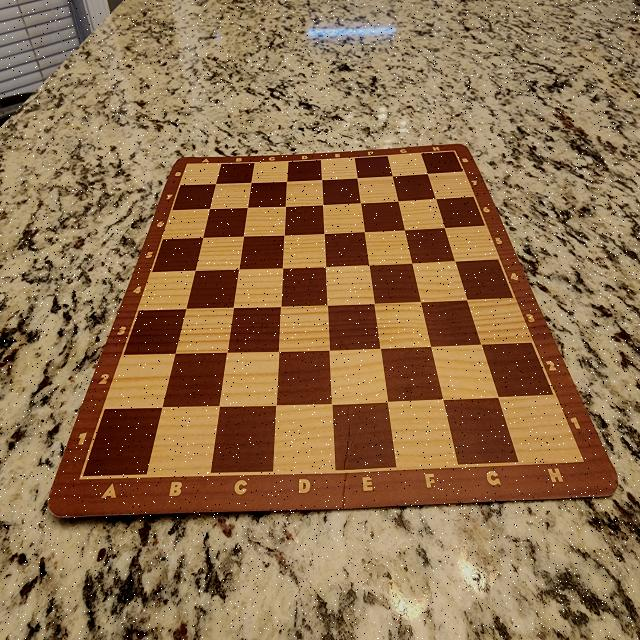Bottom-Left: (80, 407, 162, 478)
Bottom-Right: (499, 399, 585, 461)
Top-Left: (186, 164, 216, 184)
Top-Right: (428, 150, 456, 175)
